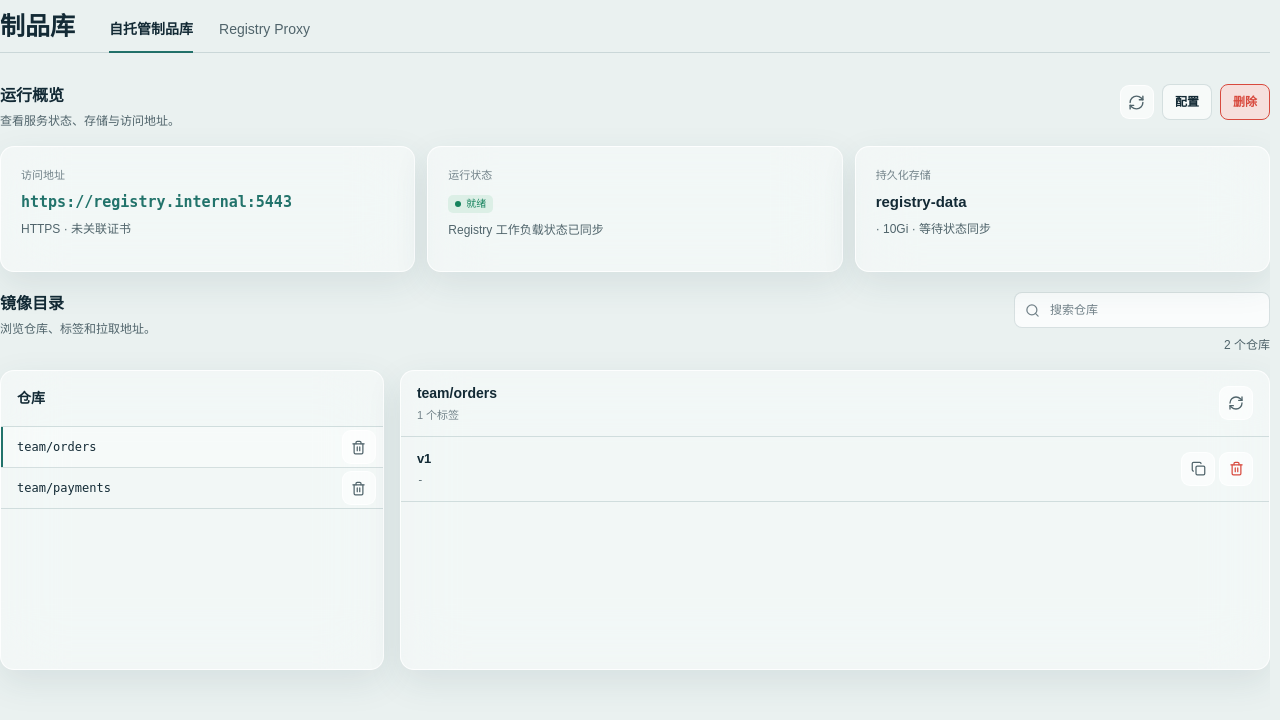
Test case: ManagedOCIRegistries view › selects another repository after deleting the active repository
Click the button named "删除仓库 team/orders" at (359, 447), box x1=342 y1=430 x2=376 y2=464
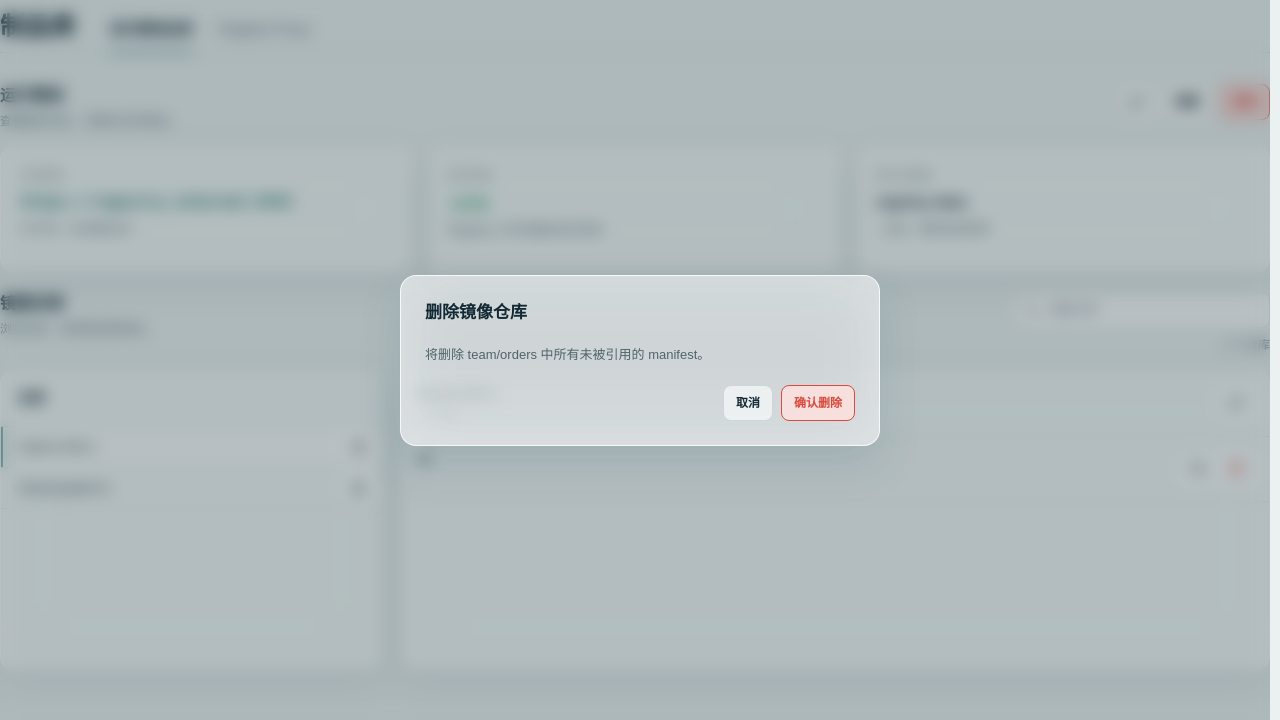
Click the button with class "btn-danger" showing "确认删除" at (818, 402), box x1=781 y1=384 x2=855 y2=420
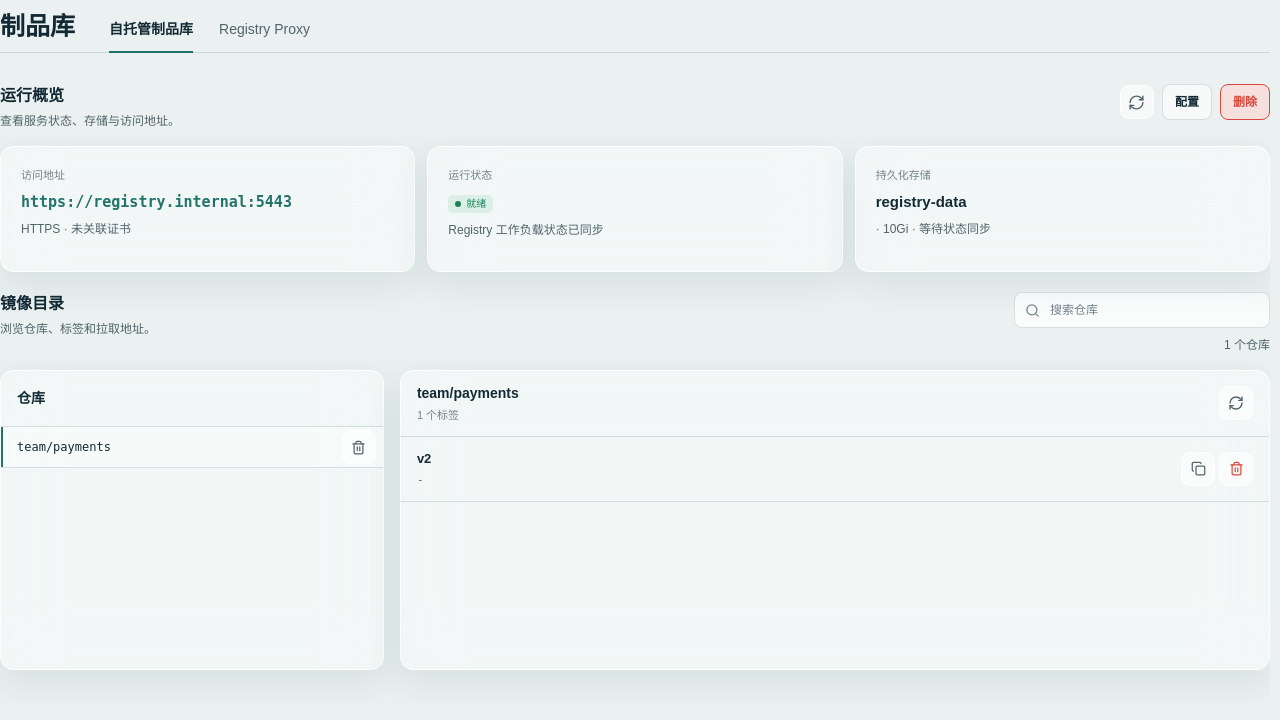
Expected: the element with class "is-selected" reads "team/payments", x1=1 y1=427 x2=342 y2=467
Result: the element with class "registry-tags-panel" shows "v2" at x1=417 y1=450 x2=431 y2=466
